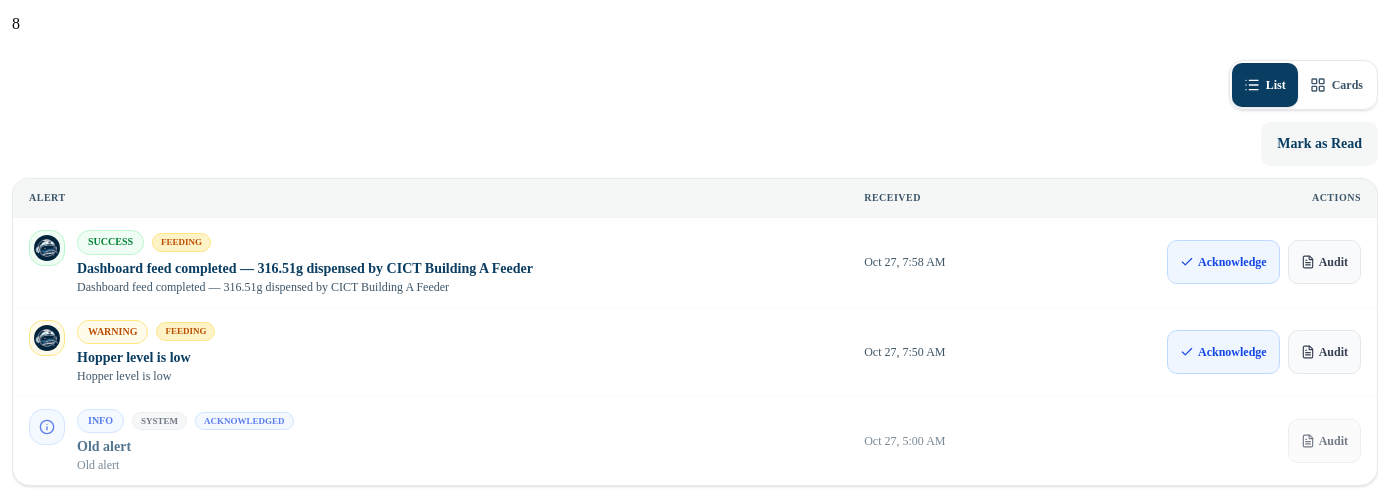
Test: NotificationList read state › clears the badge and every pending row after Mark as Read
Expected: the text with test id "badge" reads "8", [12,15,20,32]
What coordinates should you click on to do the following:
click the button "Mark as Read"
I would click on:
 (1320, 144)
Its box is [1261,122,1378,166].
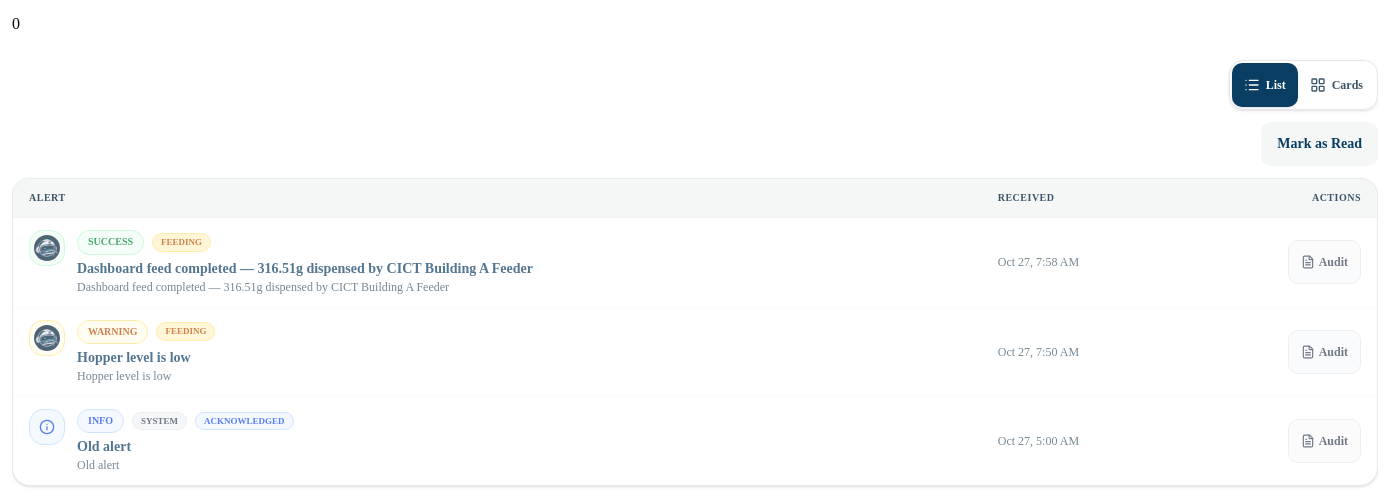
Expected: the text with test id "badge" reads "0", [12,15,20,32]
